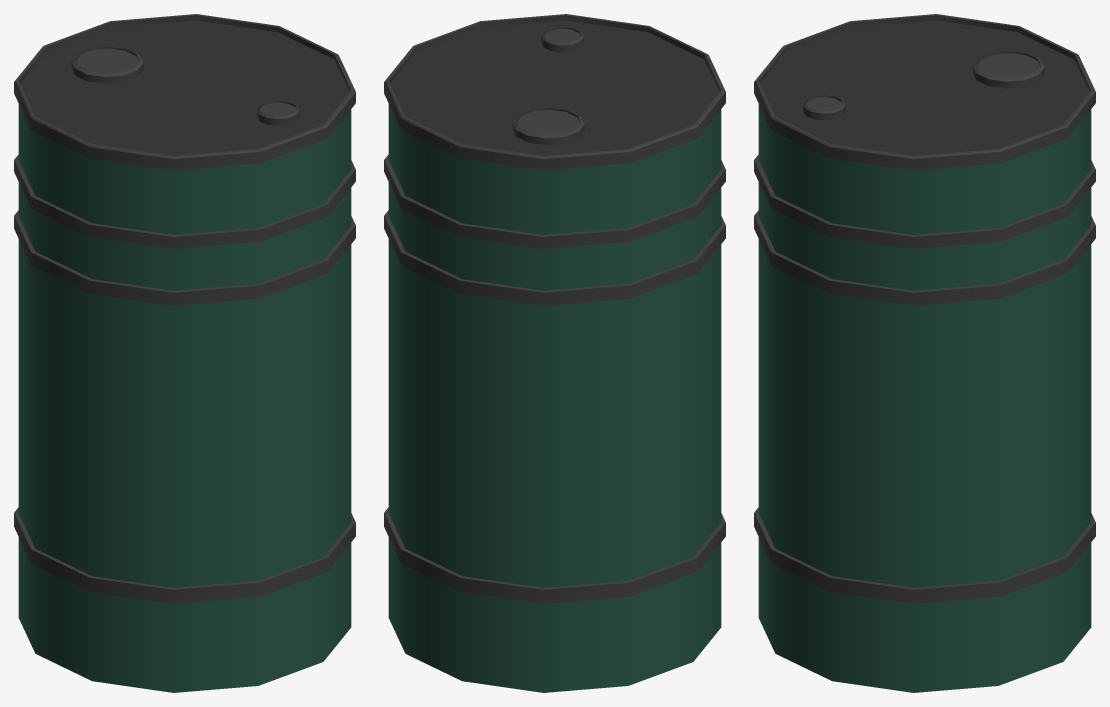
File: props_24.glb
3 views of the same model, side by side, from view 1: azimuth 30°, elevation 25°; view 2: azimuth 150°, elevation 25°; view 3: azimuth 270°, elevation 25° (orthographic).
Visible parts, largest first — view 1: props_24; view 2: props_24; view 3: props_24.
Part boxes in pixels (box(x1,y1,x2,y2)): props_24: box(14, 14, 355, 692); props_24: box(384, 14, 725, 692); props_24: box(754, 14, 1095, 692).
Size of the model in its own units: 0.8325 by 1.45 by 0.8325.
1 material, 1 textured.
